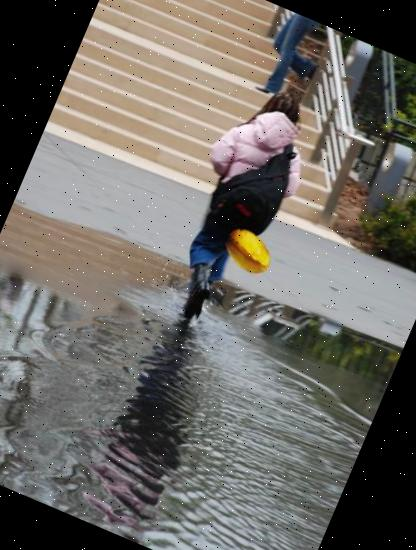Carambula: (214, 218, 282, 286)
